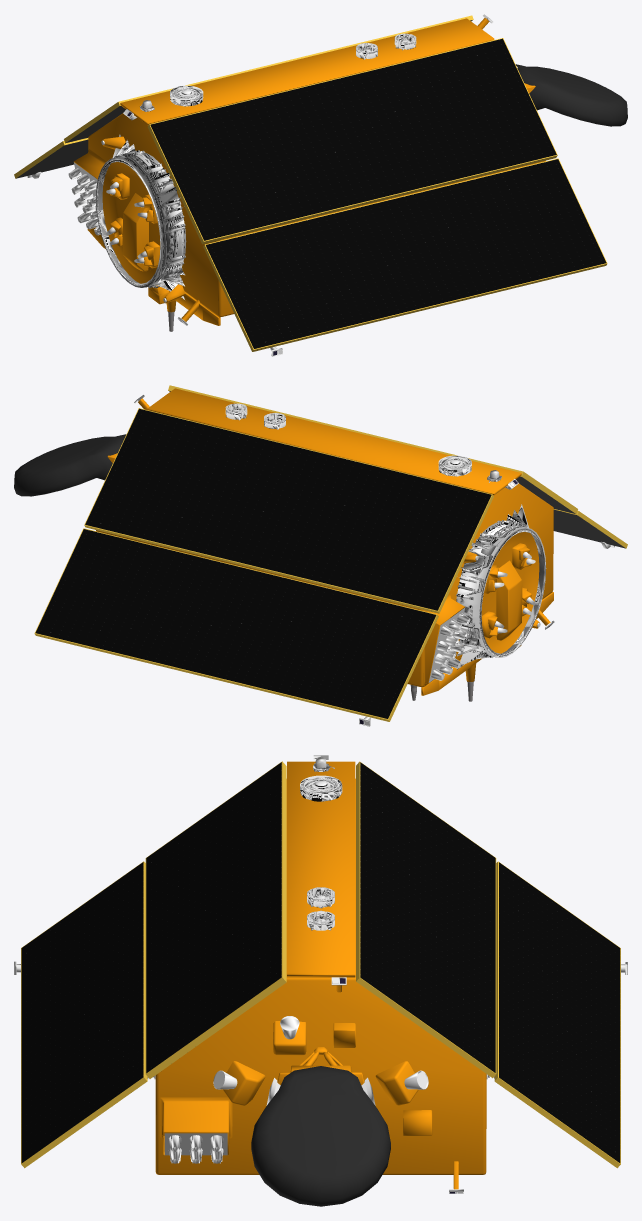
Rendered from sentinel6.glb.
The picture shows the model from 3 angles, top to bottom: view 1: azimuth 30°, elevation 25°; view 2: azimuth 150°, elevation 25°; view 3: azimuth 270°, elevation 25°; orthographic projection. The views are drawn at different scales.
Visible parts, largest first — view 1: array, Cylinder.007, MPPS, AMR, GNSS_POD_RO_SPA, GNSS; view 2: array, Cylinder.007, MPPS, AMR, GNSS, GNSS_POD_RO_SPA; view 3: array, Cylinder.007, AMR, GNSS_POD_RO_SPA, GNSS, starTrackers.
Boxes of the visible parts, x1,y1,x2,y2 form: array: [14, 15, 607, 351]; Cylinder.007: [73, 18, 545, 325]; MPPS: [95, 134, 186, 299]; AMR: [515, 64, 627, 126]; GNSS_POD_RO_SPA: [140, 33, 416, 111]; GNSS: [68, 162, 100, 235]; array: [34, 385, 627, 721]; Cylinder.007: [96, 388, 553, 695]; MPPS: [456, 504, 546, 669]; AMR: [14, 434, 126, 496]; GNSS: [429, 607, 470, 682]; GNSS_POD_RO_SPA: [225, 403, 501, 482]; array: [21, 761, 620, 1168]; Cylinder.007: [155, 761, 486, 1189]; AMR: [251, 1066, 390, 1206]; GNSS_POD_RO_SPA: [300, 757, 342, 930]; GNSS: [164, 1133, 227, 1163]; starTrackers: [213, 1016, 428, 1089].
Size of the model in its own units: 5.13 by 2.32 by 4.37.
Materials: 17 (4 with a texture image).
